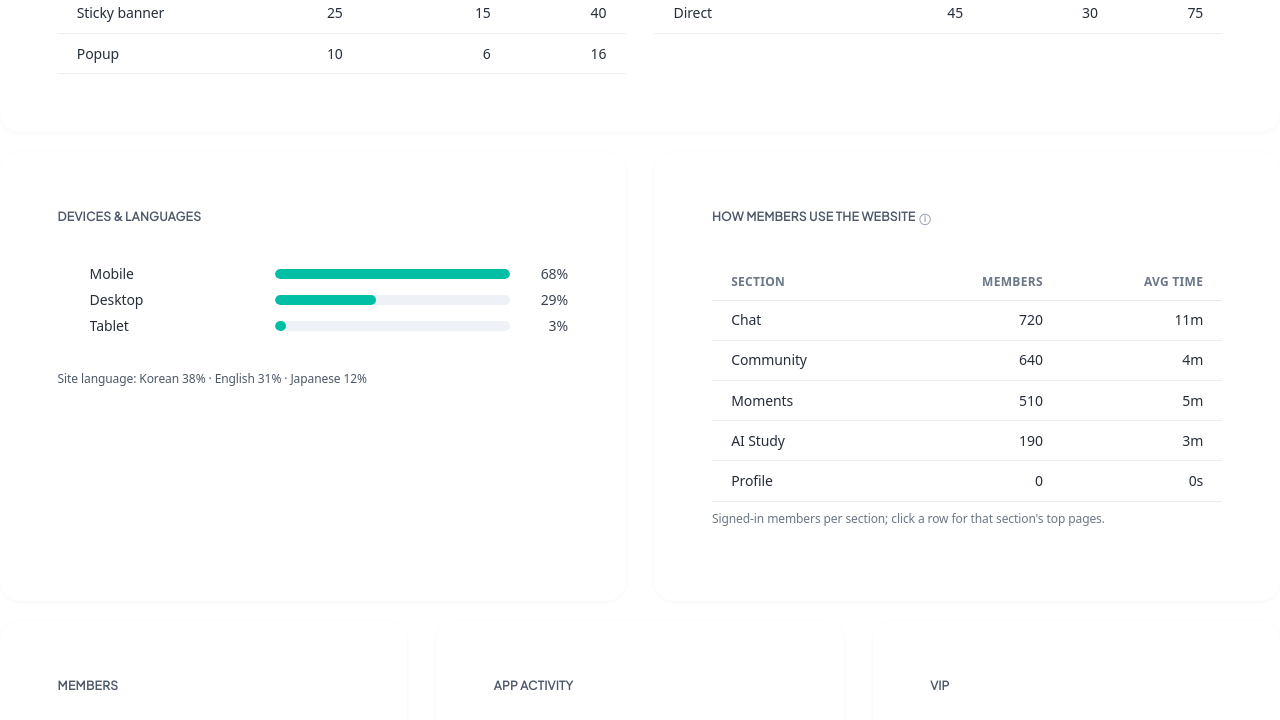
Test case: section row click shows its top pages
(page scrolled)
Click the button with test id "data-row" showing "Community 640 4m" at (769,360), box [712, 340, 1222, 381]
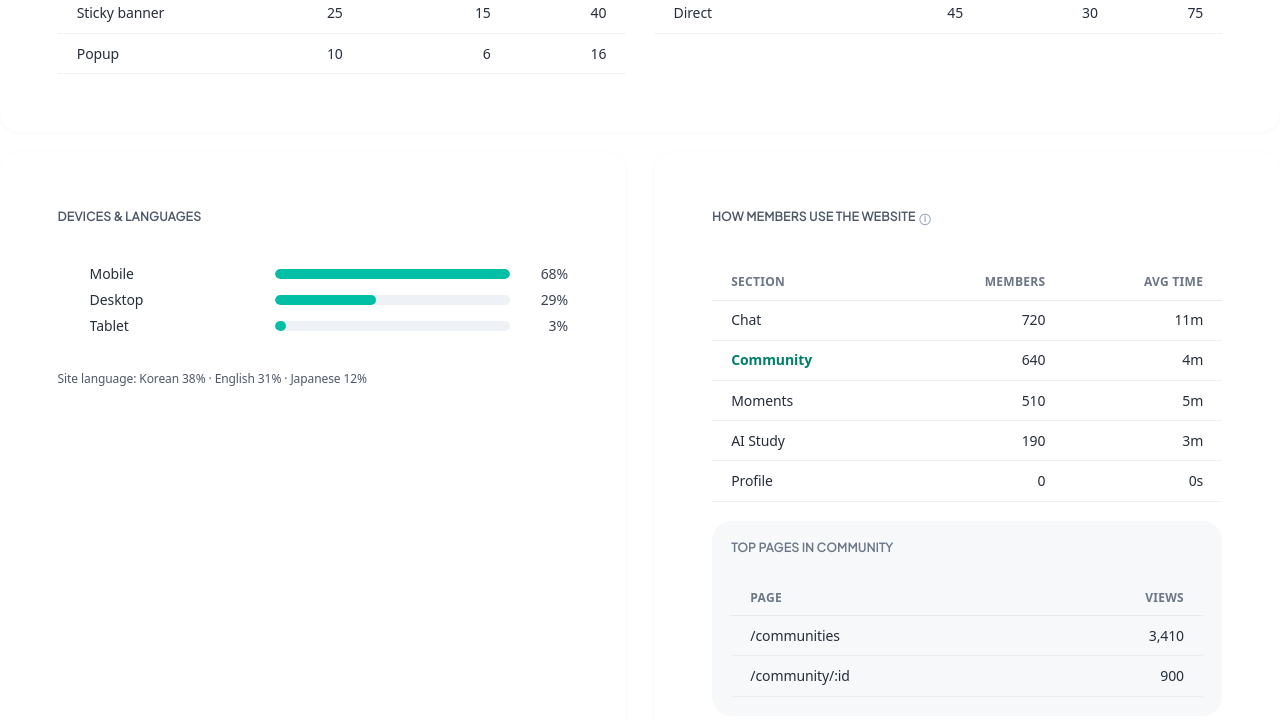
Expected: the element with test id "section-pages" shows "/community/:id", [750, 666, 850, 685]
Expected: the element with test id "section-pages" shows "900", [1160, 666, 1184, 685]
Click the button with test id "data-row" showing "Chat 720 11m" at (746,320), box [712, 301, 1222, 340]
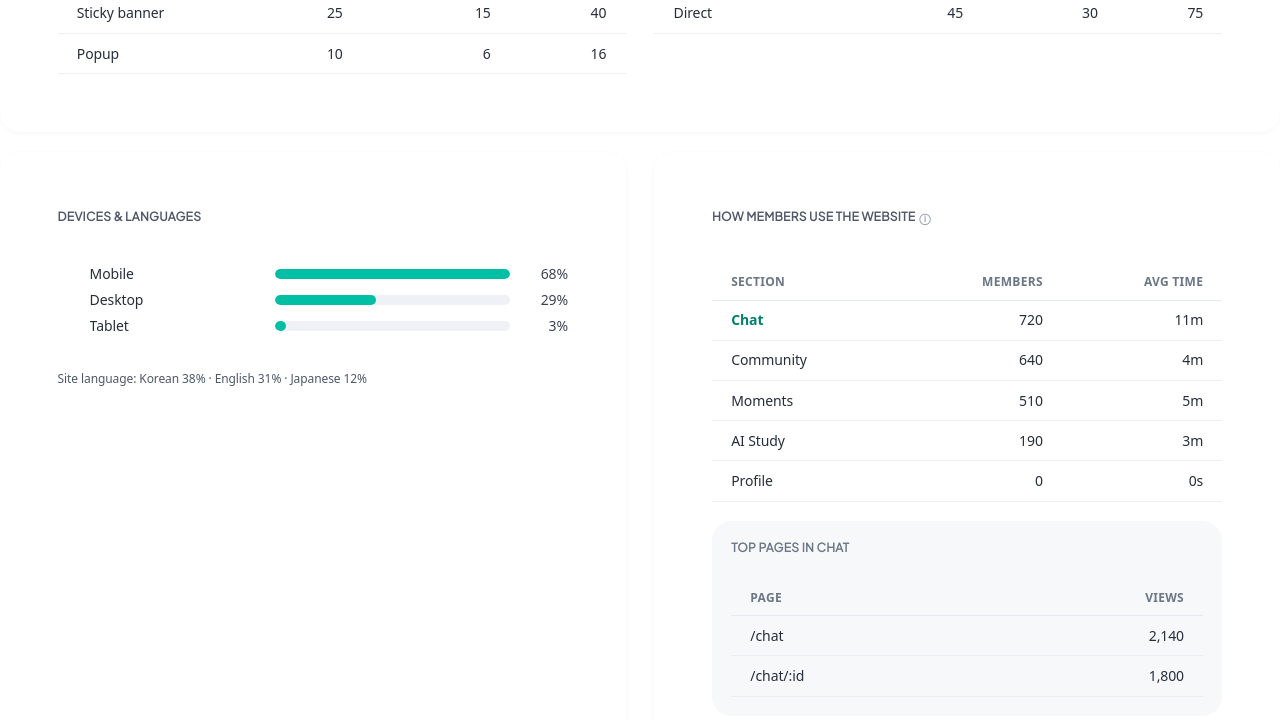
Expected: the element with test id "section-pages" shows "/chat/:id", [750, 666, 804, 685]
